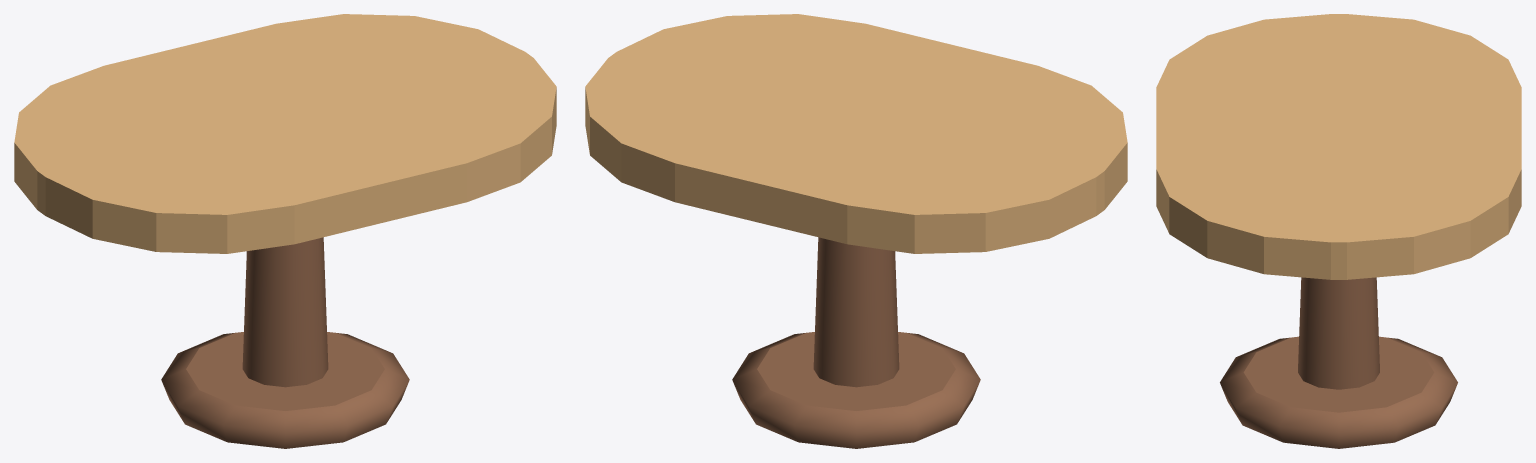
Rendered from kit_coffee_table_v1.glb.
3 views of the same model, side by side, from view 1: azimuth 30°, elevation 25°; view 2: azimuth 150°, elevation 25°; view 3: azimuth 270°, elevation 25° (orthographic). The views are drawn at different scales.
Visible parts, largest first — view 1: body; view 2: body; view 3: body.
Part boxes in pixels (box(x1,y1,x2,y2)): body: box(14, 14, 556, 448); body: box(585, 14, 1127, 448); body: box(1156, 14, 1521, 448).
Size of the model in its own units: 0.68 by 0.38 by 0.46.
